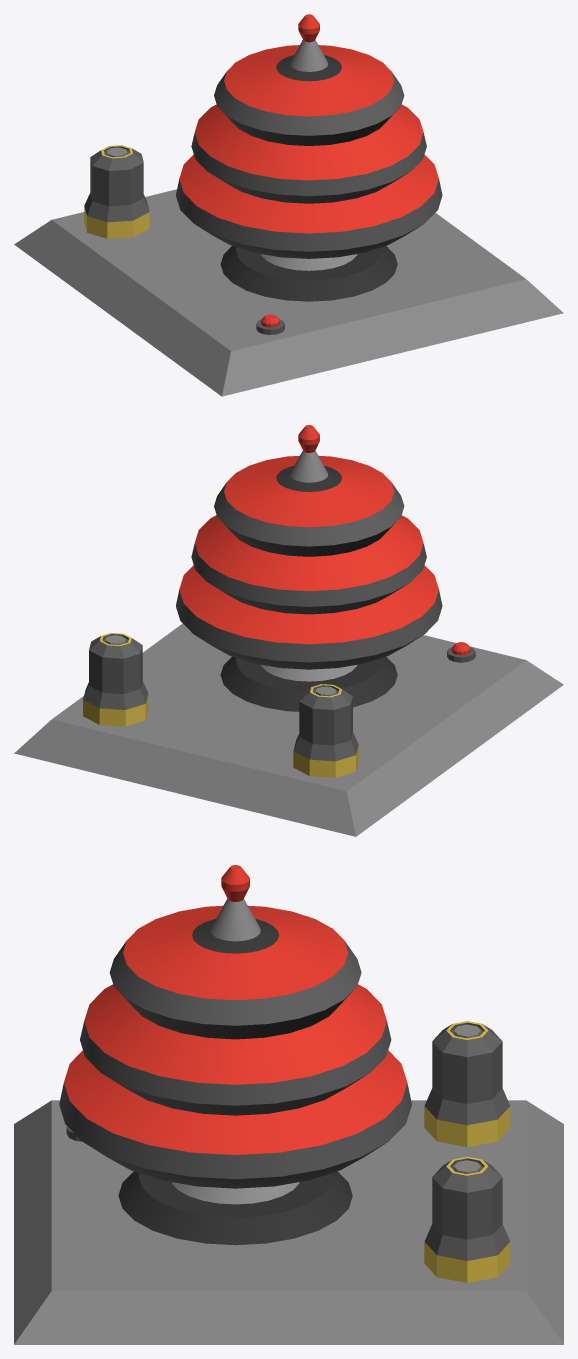
File: transistorRed.glb
3 renders of one model, top to bottom at view 1: azimuth 30°, elevation 25°; view 2: azimuth 150°, elevation 25°; view 3: azimuth 270°, elevation 25°, orthographic. The views are drawn at different scales.
Visible parts, largest first — view 1: Transistor - Green; view 2: Transistor - Green; view 3: Transistor - Green.
Part boxes in pixels (x1=…): Transistor - Green: x1=14, y1=14, x2=563, y2=396; Transistor - Green: x1=14, y1=425, x2=563, y2=836; Transistor - Green: x1=14, y1=865, x2=563, y2=1344.
Size of the model in its own units: 0.9252 by 0.7173 by 0.974.
